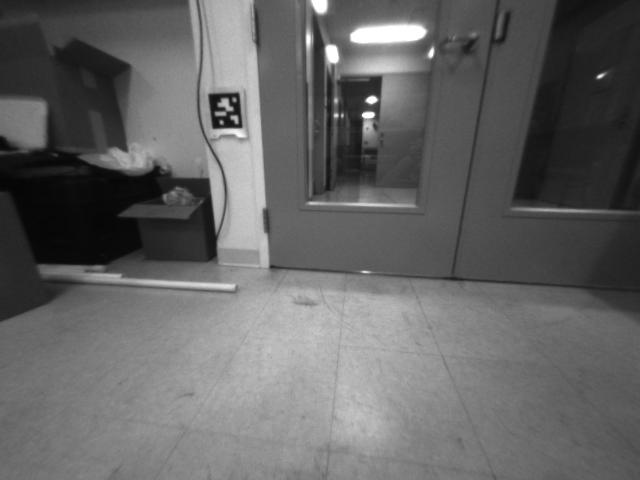door_handle: (431, 26, 481, 59)
